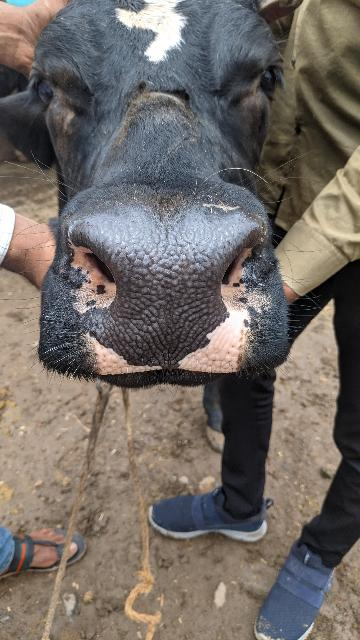Muzzle: (76, 212, 242, 370)
